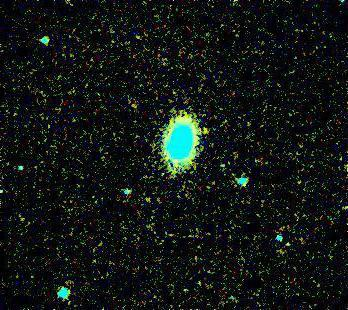star: (193, 115, 223, 145)
